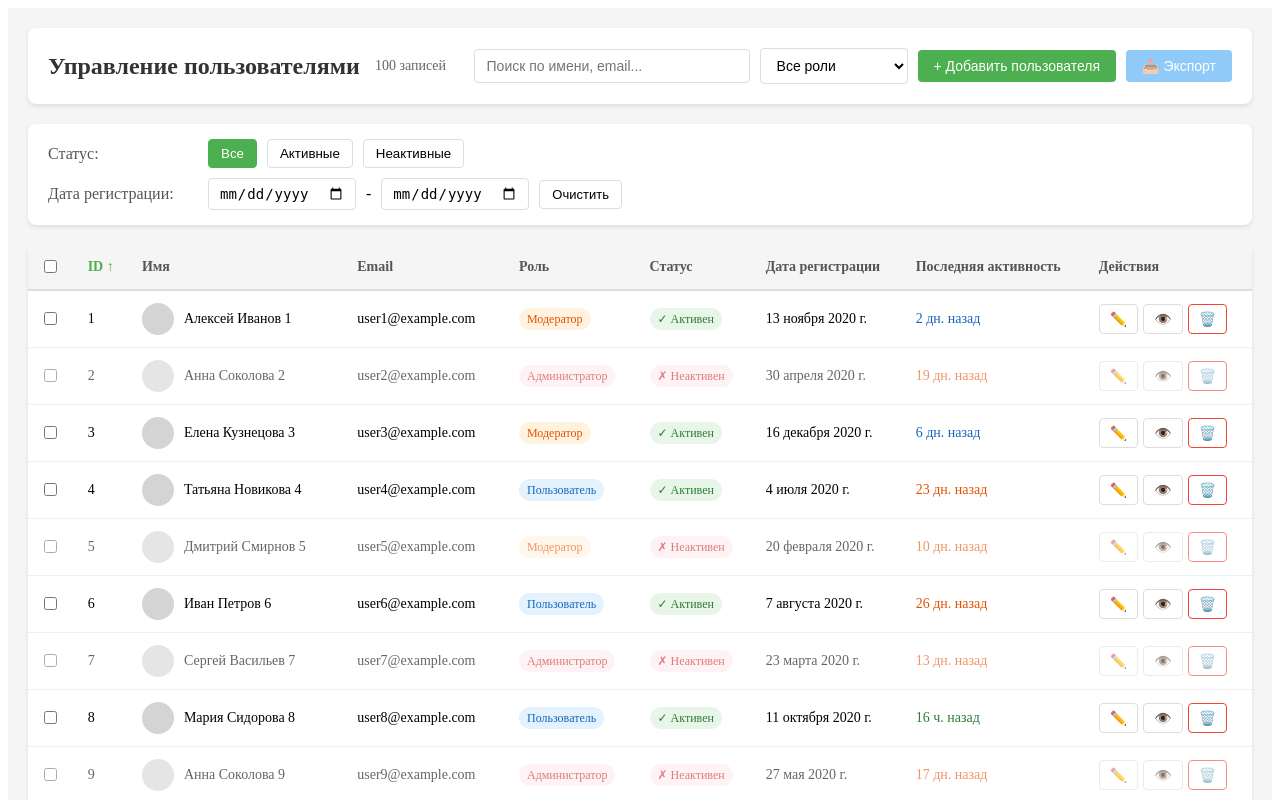
Test: UserTable › Изменение статуса пользователя › должен переключить статус пользователя при клике на бейдж статуса
What coordinates should you click on to do the following:
click the text with class "status-badge" in the row of "user1@example.com"
I would click on:
 (686, 319)
Its box is [650,308,722,330].
Wait 500 ms
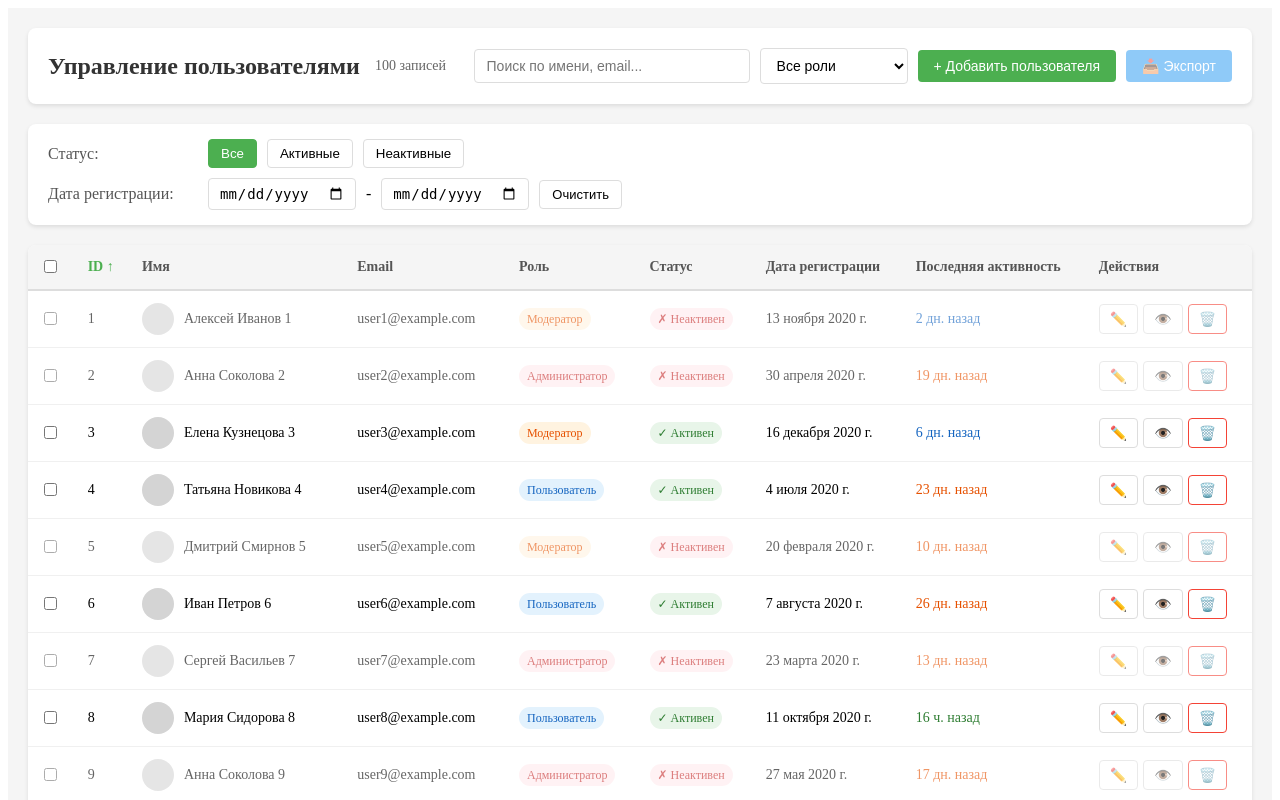
Now the element with class "status-badge" no longer shows "✓ Активен"
